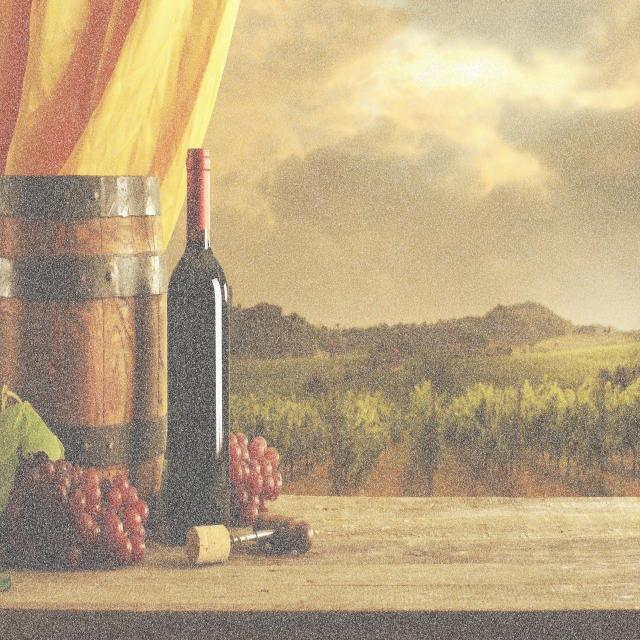cork: (182, 517, 234, 567)
